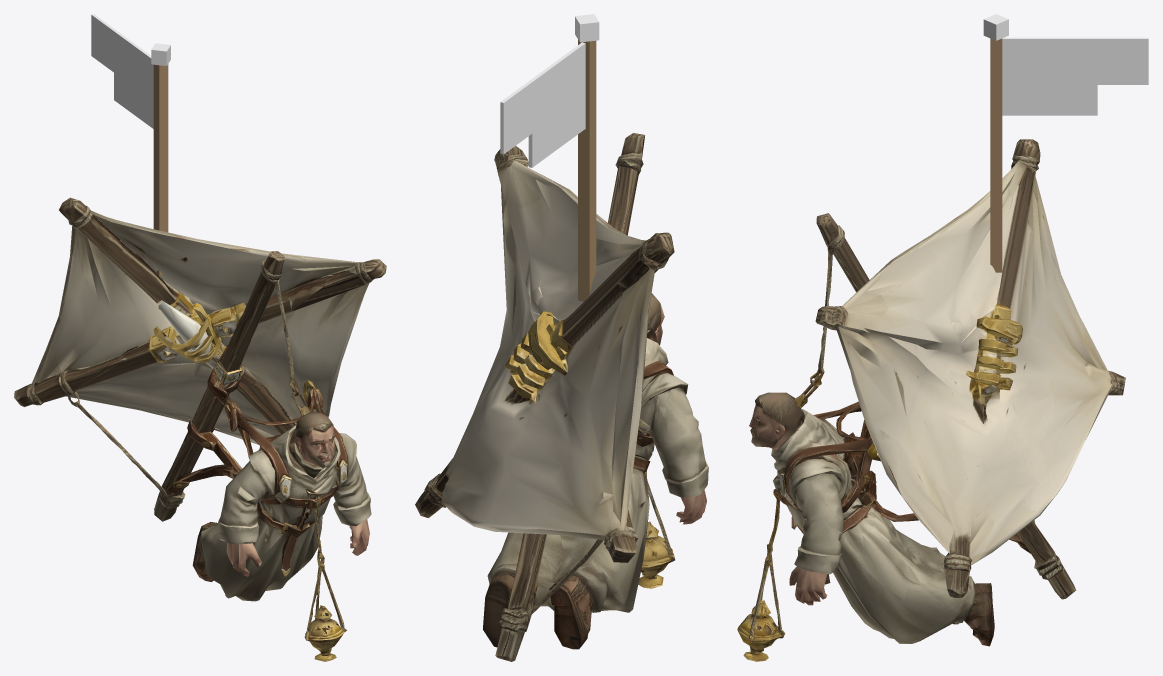
The model's file is starborn_star_kite.glb.
The picture shows the model from 3 angles, left to right: view 1: azimuth 30°, elevation 25°; view 2: azimuth 150°, elevation 25°; view 3: azimuth 270°, elevation 25°; orthographic projection. The views are drawn at different scales.
Parts seen in each view (by area): view 1: starborn_star_kite, Team_pennant; view 2: starborn_star_kite, Team_pennant; view 3: starborn_star_kite, Team_pennant.
Boxes of the visible parts, x1,y1,x2,y2 form: starborn_star_kite: (14, 197, 386, 661); Team_pennant: (91, 14, 170, 275); starborn_star_kite: (415, 133, 708, 661); Team_pennant: (500, 14, 599, 301); starborn_star_kite: (737, 139, 1125, 661); Team_pennant: (983, 14, 1148, 272).
Bounding box in the file's own units: 1.22 × 2.58 × 1.57.
Materials: 3 (1 with a texture image).
